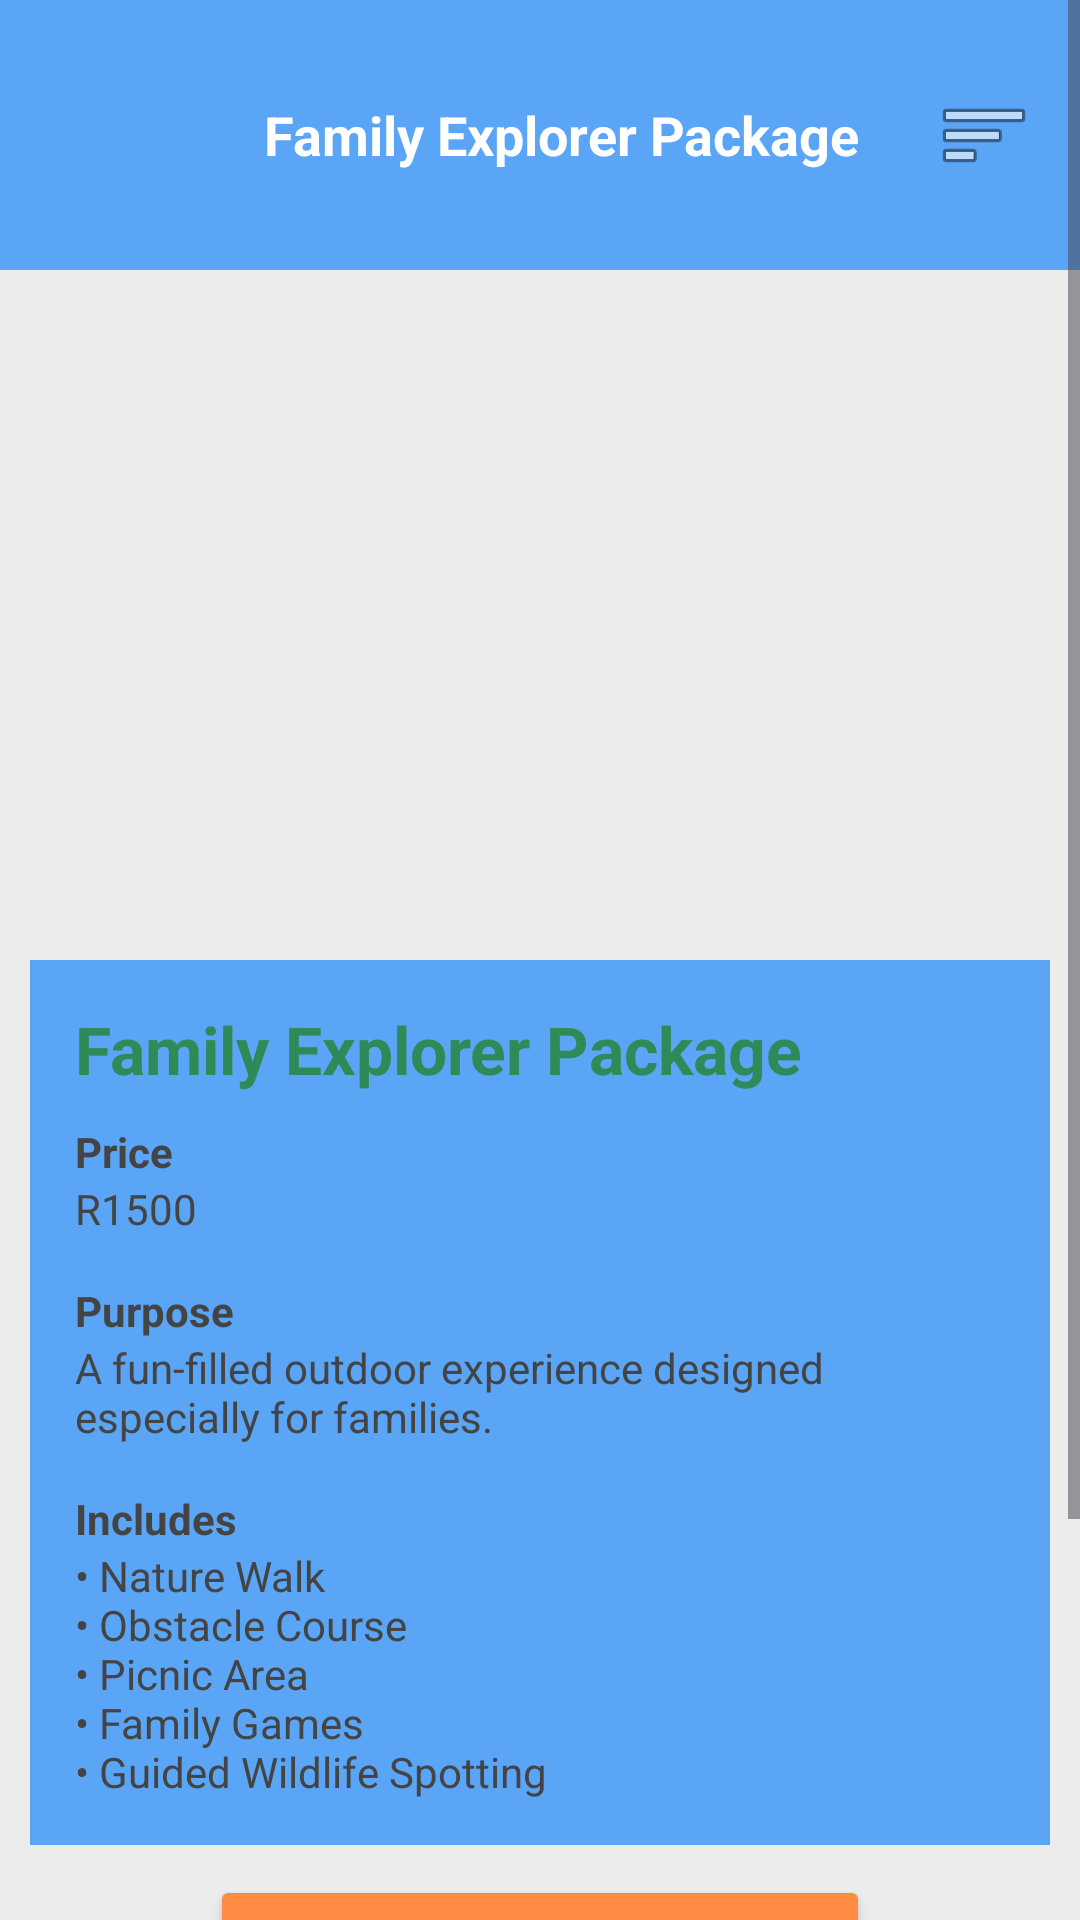

Named icons in this screenshot (1080px x 1920px) and their bounding boxes, {"x1": x1, "y1": y1, "x2": x2, "y2": y2}:
sort by size: {"x1": 943, "y1": 109, "x2": 1025, "y2": 162}
